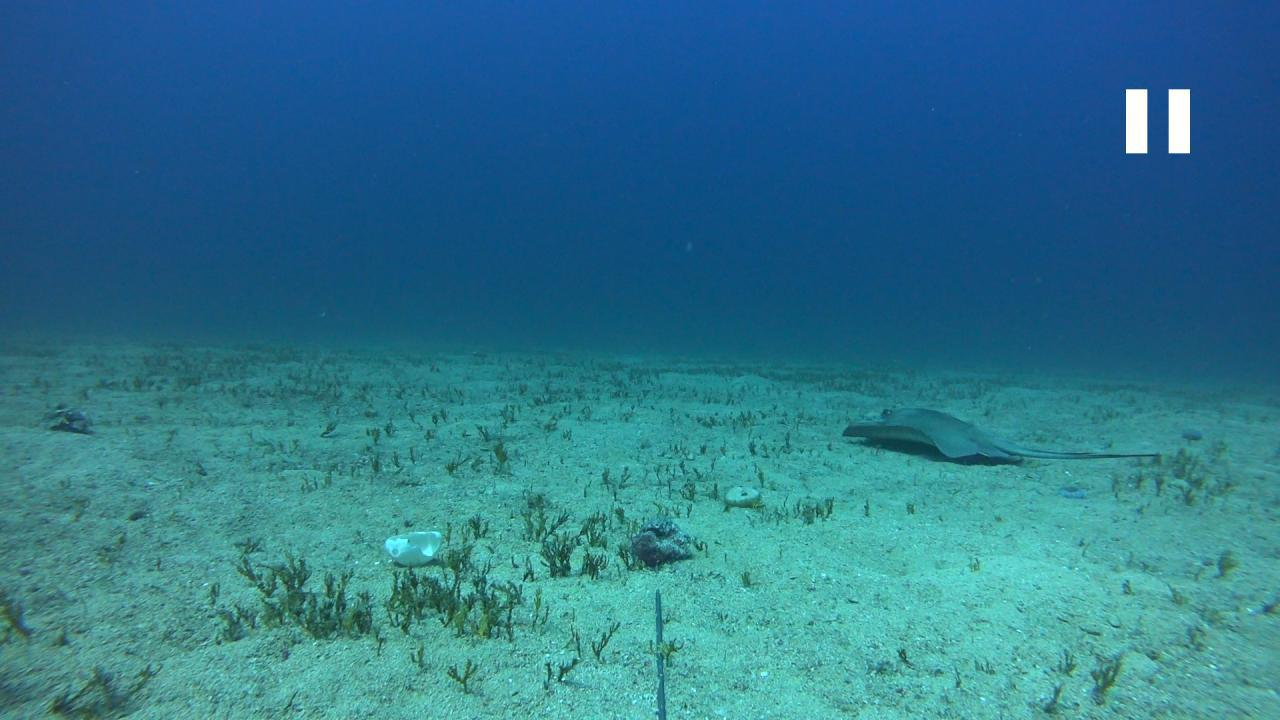dasyatis: (842, 404, 1156, 460)
